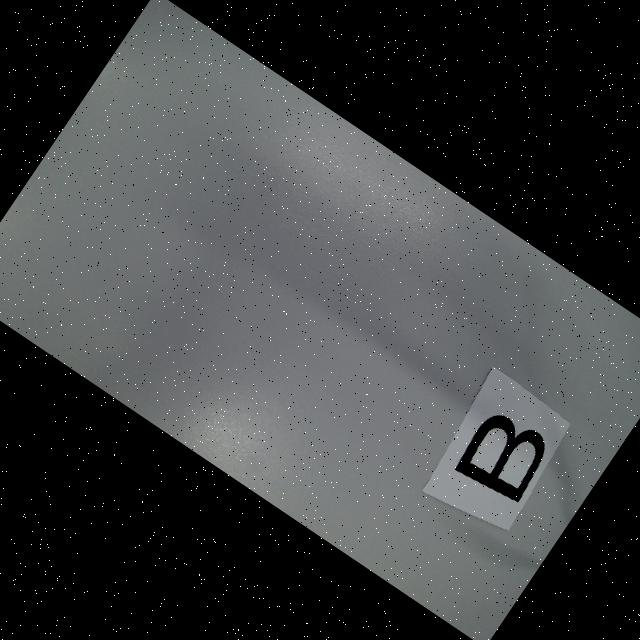FAKE: (452, 403, 558, 510)
